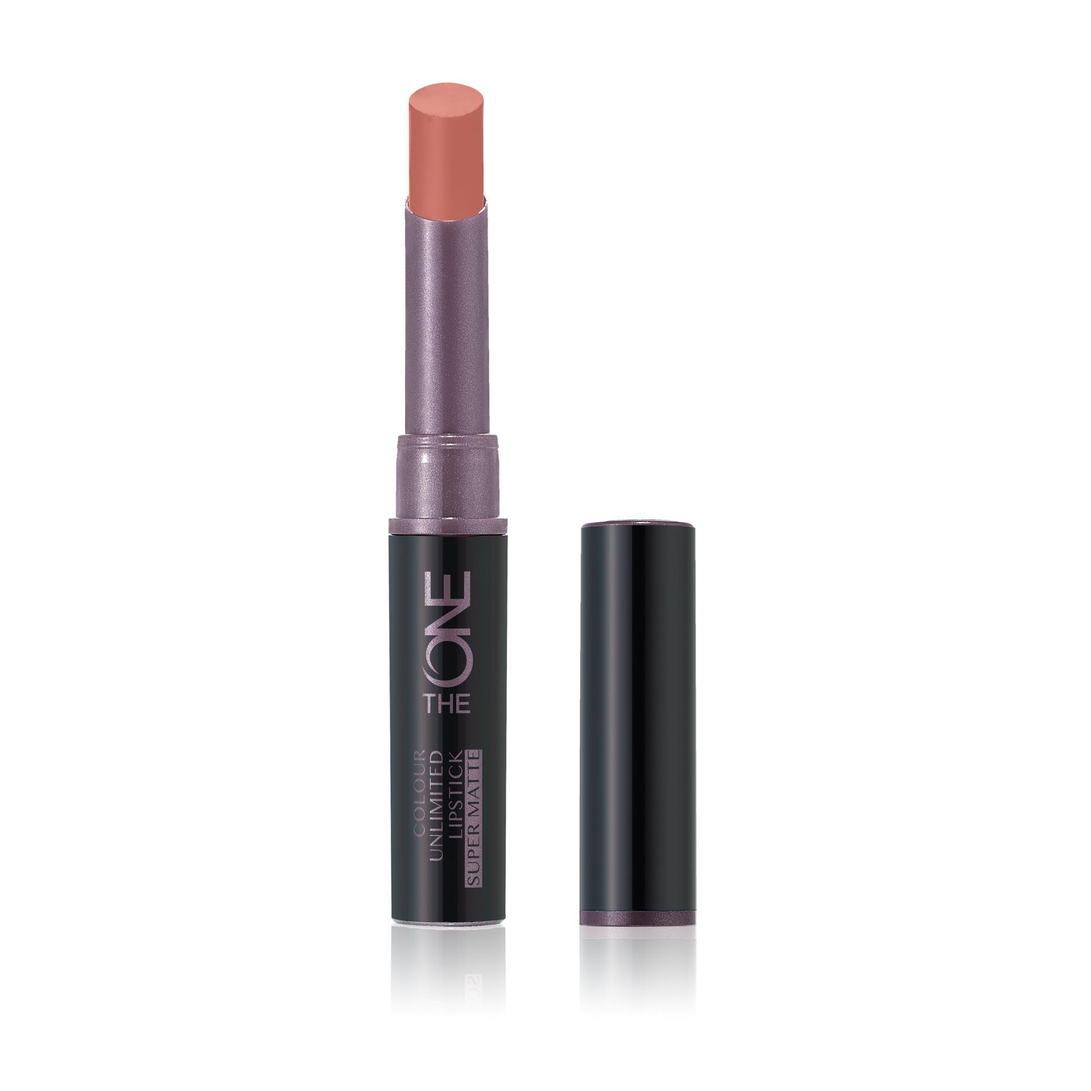lipstick: (327, 40, 561, 960)
